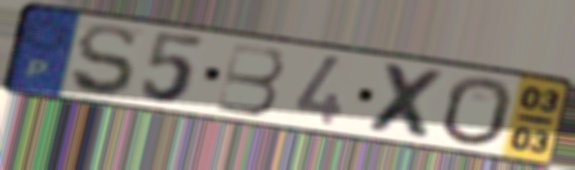4: (291, 51, 346, 130)
5: (139, 31, 210, 107)
B: (213, 40, 287, 118)
O: (439, 74, 516, 149)
S: (68, 22, 140, 99)
X: (363, 59, 451, 144)
